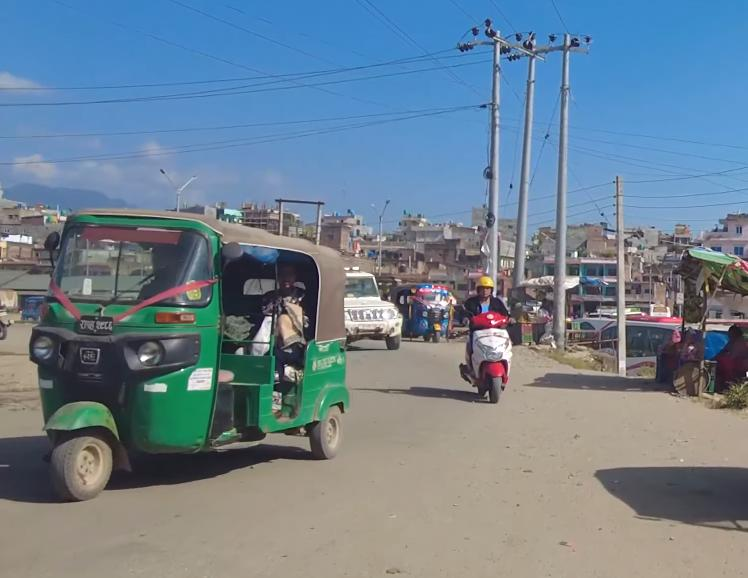SUV: (333, 260, 406, 354)
auto_rickshaw: (27, 201, 359, 507), (387, 280, 450, 343)
scooter: (458, 312, 516, 406)
